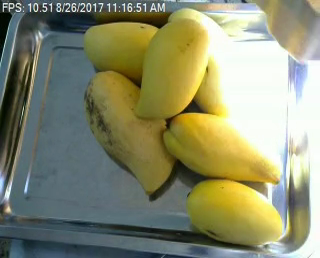Mango: (84, 70, 179, 193), (164, 113, 280, 184), (167, 7, 243, 115), (134, 18, 210, 116), (187, 180, 282, 246), (82, 21, 163, 80)
